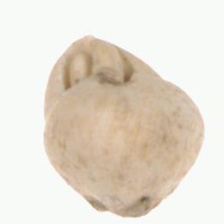L1: (55, 32, 138, 99), (87, 195, 160, 217)
L2: (42, 35, 205, 217)
